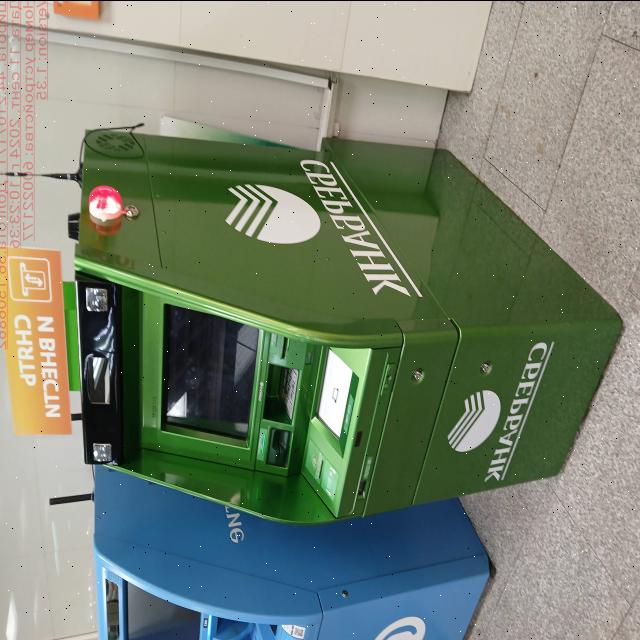bank: (74, 105, 620, 528)
